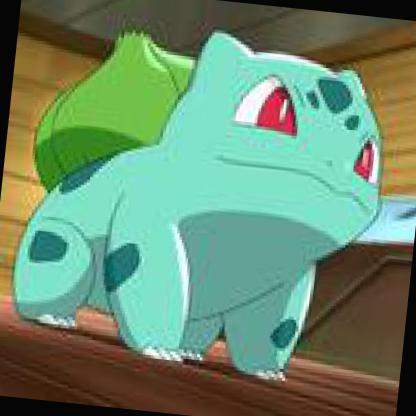Bisasam: (23, 1, 415, 415)
